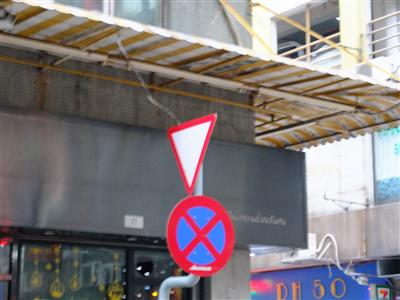noStopping: (162, 192, 239, 278)
yield: (163, 111, 223, 195)
